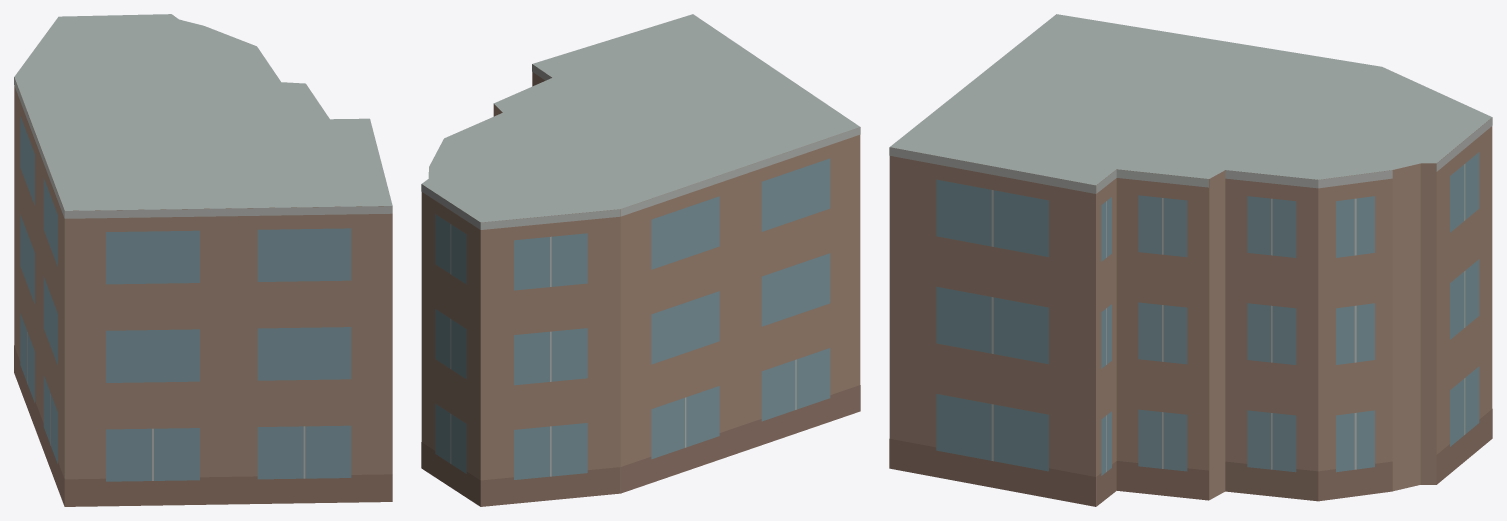
File: survey-upis-33040099.glb
3 views of the same model, side by side, from view 1: azimuth 30°, elevation 25°; view 2: azimuth 150°, elevation 25°; view 3: azimuth 270°, elevation 25° (orthographic). The views are drawn at different scales.
Parts seen in each view (by area): view 1: survey-upis-33040099.tmp; view 2: survey-upis-33040099.tmp; view 3: survey-upis-33040099.tmp.
Boxes of the visible parts, left/top/right/bottom form: survey-upis-33040099.tmp: left=14, top=14, right=392, bottom=506; survey-upis-33040099.tmp: left=421, top=14, right=860, bottom=506; survey-upis-33040099.tmp: left=889, top=14, right=1492, bottom=506.
Size of the model in its own units: 10.48 by 9.15 by 15.57.
